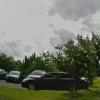Tree: (51, 26, 100, 71)
